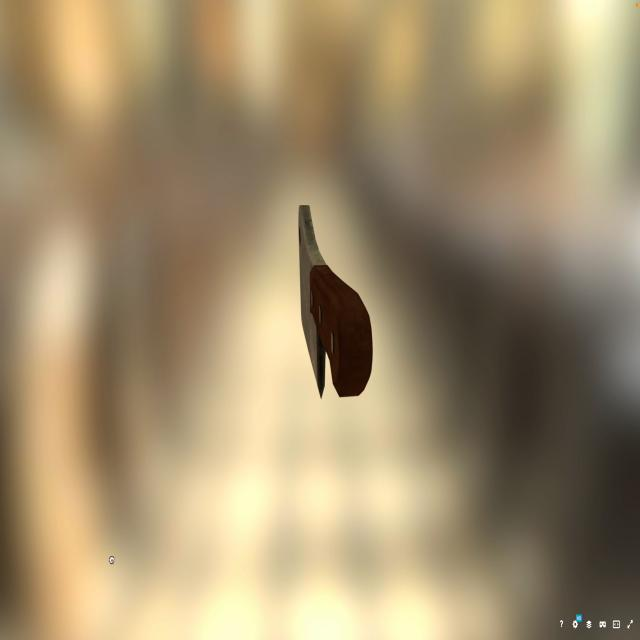cleaver: (298, 200, 372, 397)
